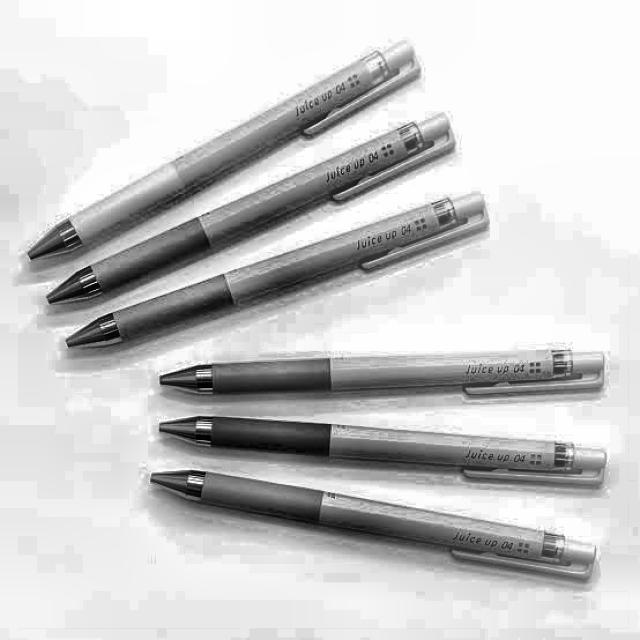Pen: (28, 43, 421, 259), (47, 114, 455, 303), (67, 194, 489, 347), (151, 471, 598, 583), (159, 417, 606, 488), (159, 350, 605, 395)
